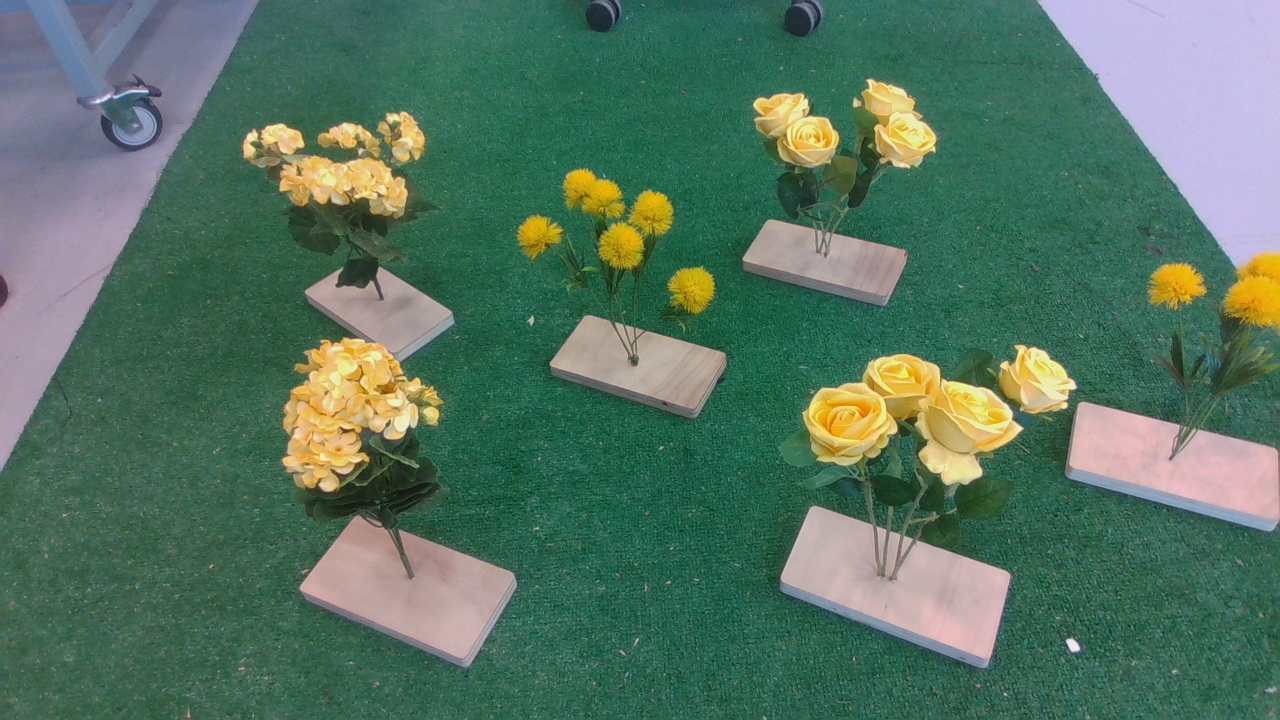dandelion: (508, 171, 726, 345), (1145, 237, 1280, 415)
geranium: (240, 111, 439, 293), (280, 338, 459, 529)
rose: (774, 345, 1088, 532), (742, 73, 946, 219)
